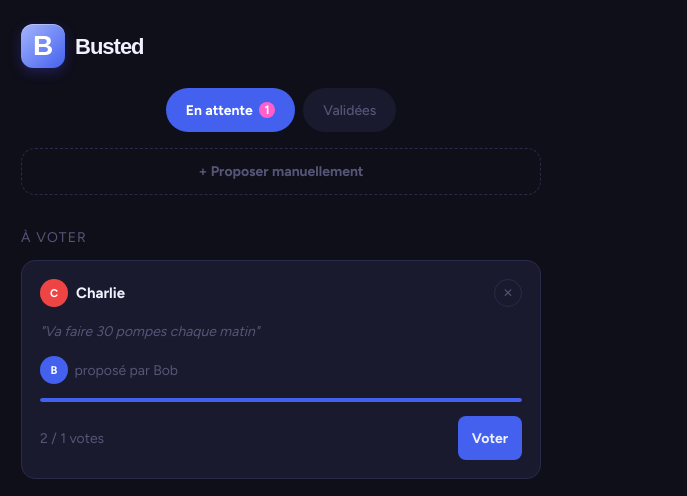
Test: Proposals — voting › shows toast when proposal reaches threshold
Click the button "Voter" at (490, 438), box [458,416,522,460]
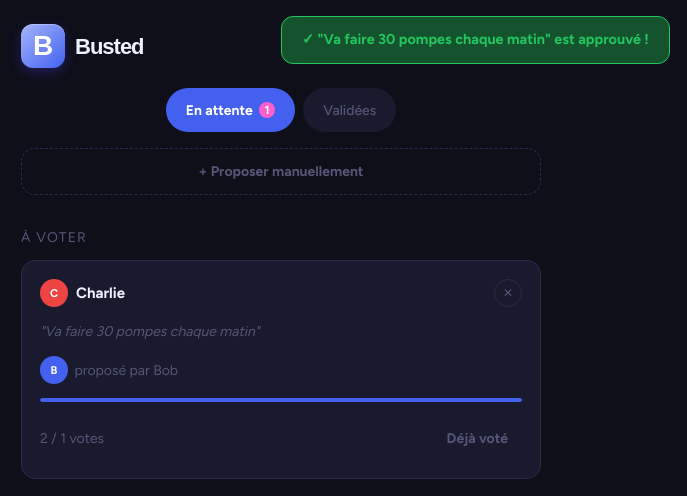
Now the text "✓ \"Va faire 30 pompes chaque matin\" est approuvé !" is shown, box [281,16,670,64]
